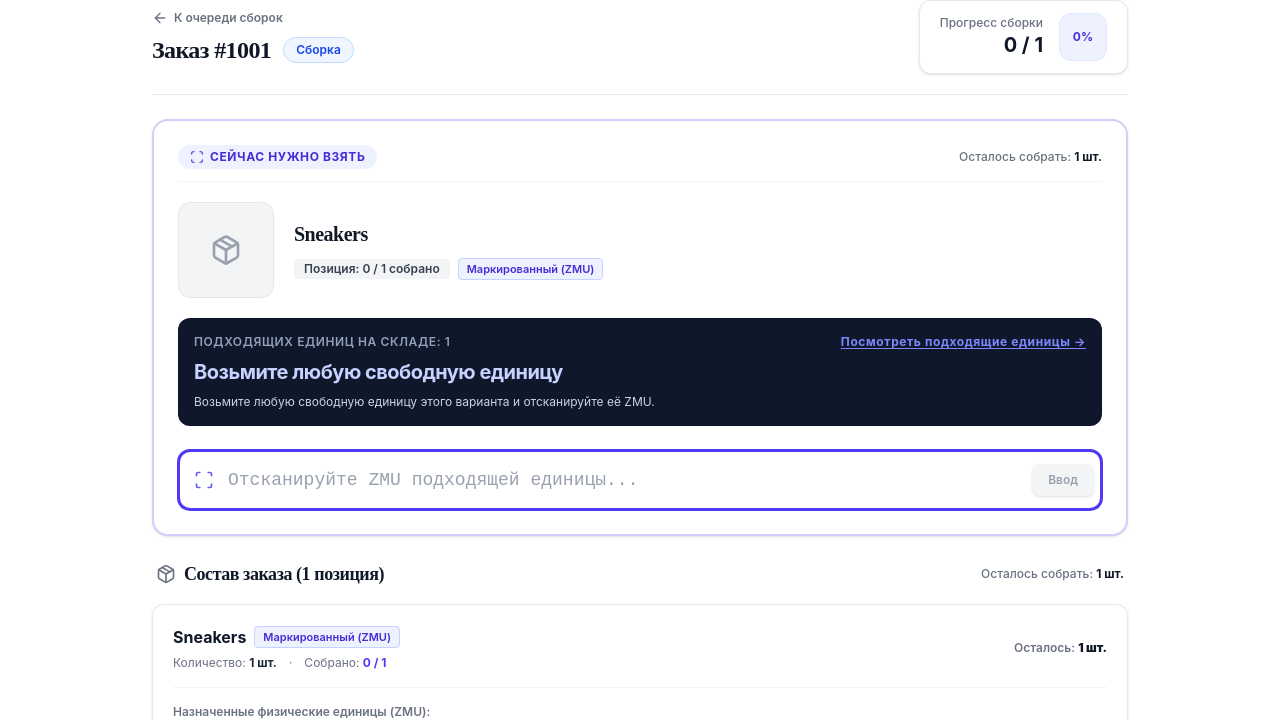
Test: AdminPickingDetail Layout-Independent Normalization (SCN.1C) › N: unknown normalized code reaches backend and receives error feedback
Type "ЯЬГ-ГТЛТЩЦТ99999" into the field with placeholder "Отсканируйте ZMU подходящей единицы..." at x=640, y=480, box [178, 450, 1102, 510]
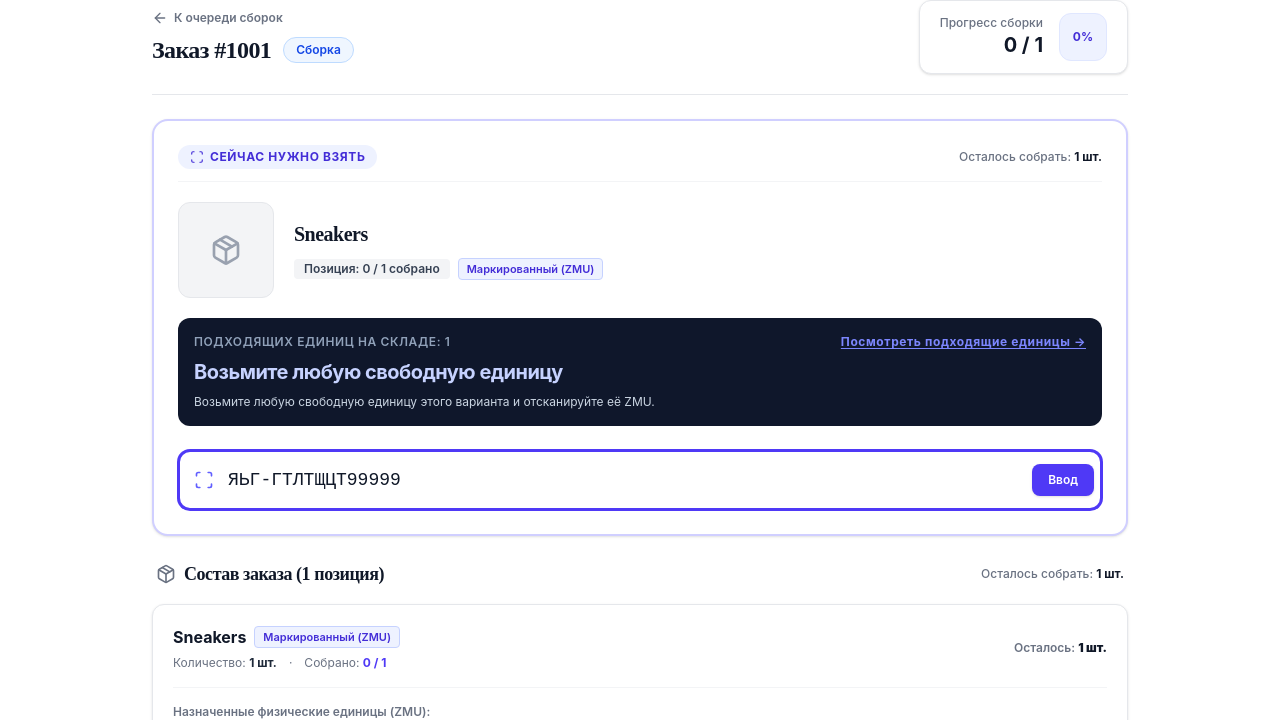
Submit the form with placeholder "Отсканируйте ZMU подходящей единицы", box [178, 446, 1102, 510]
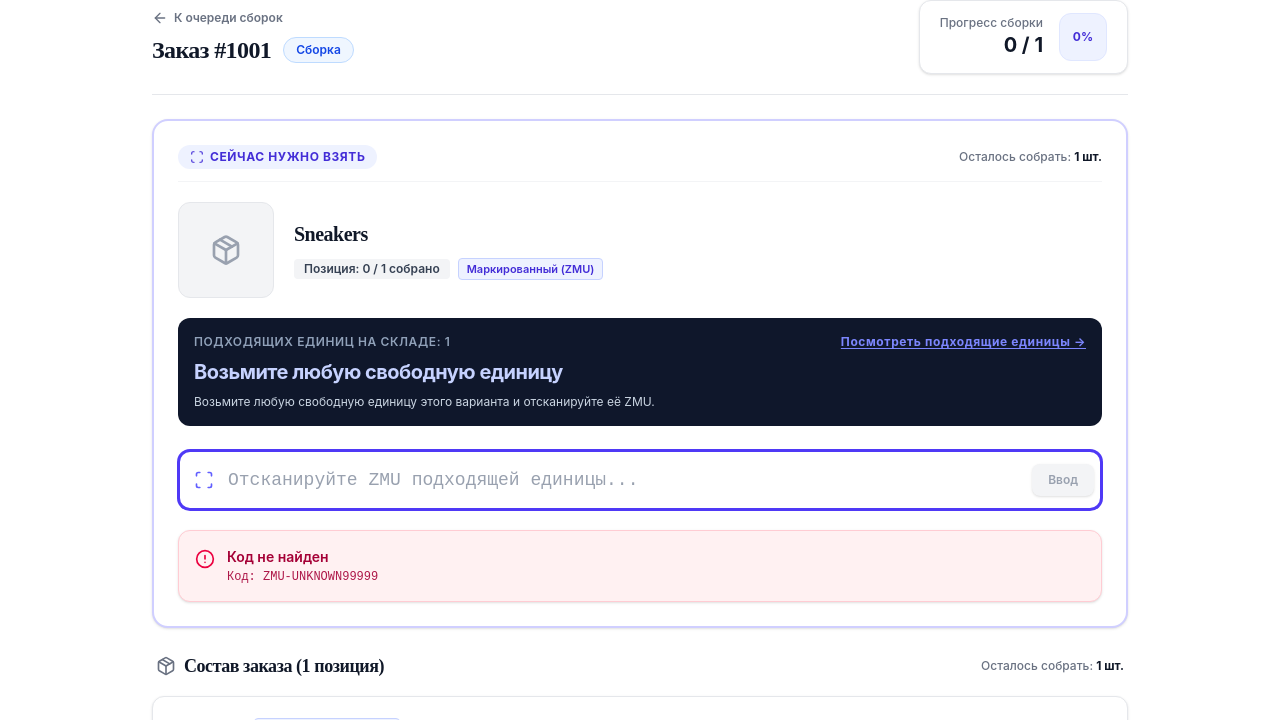
Now the element with test id "scan-feedback-banner" is shown, box [178, 530, 1102, 602]
Now the text "Код не найден" is shown, box [227, 548, 328, 565]
